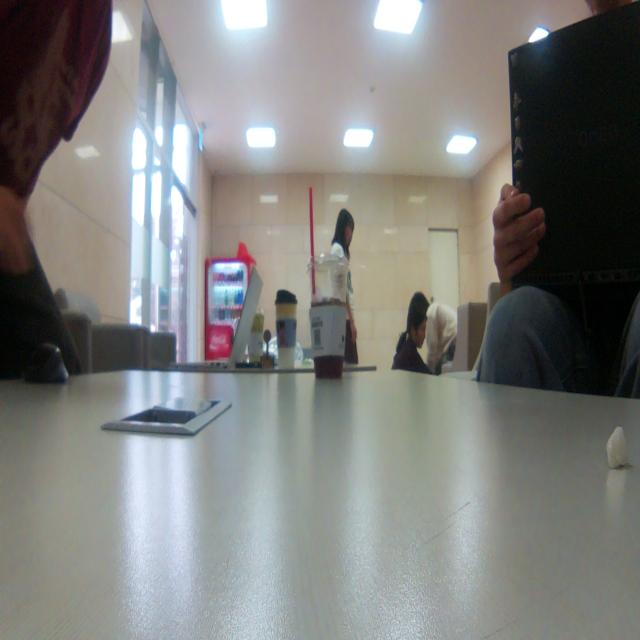target: (260, 328, 276, 373)
